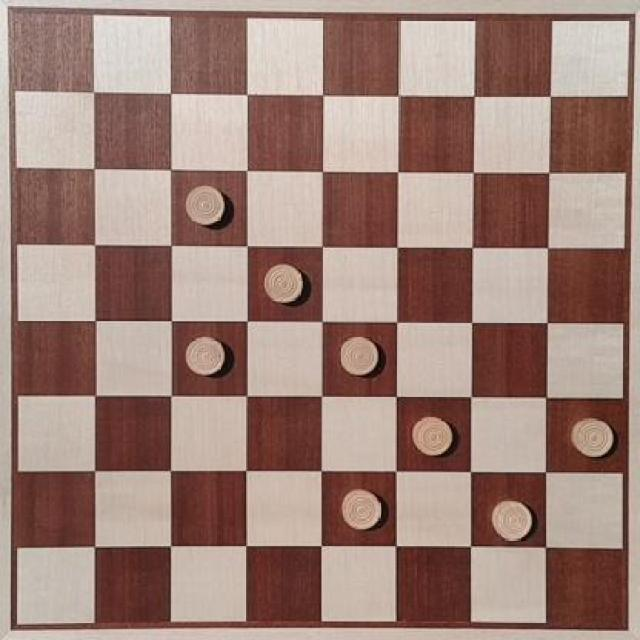BOARD: (10, 7, 630, 628)
white: (407, 406, 462, 465), (332, 484, 393, 533), (484, 492, 535, 545), (180, 330, 234, 380), (179, 180, 228, 233), (260, 258, 308, 309), (334, 333, 387, 378), (570, 416, 616, 464)
